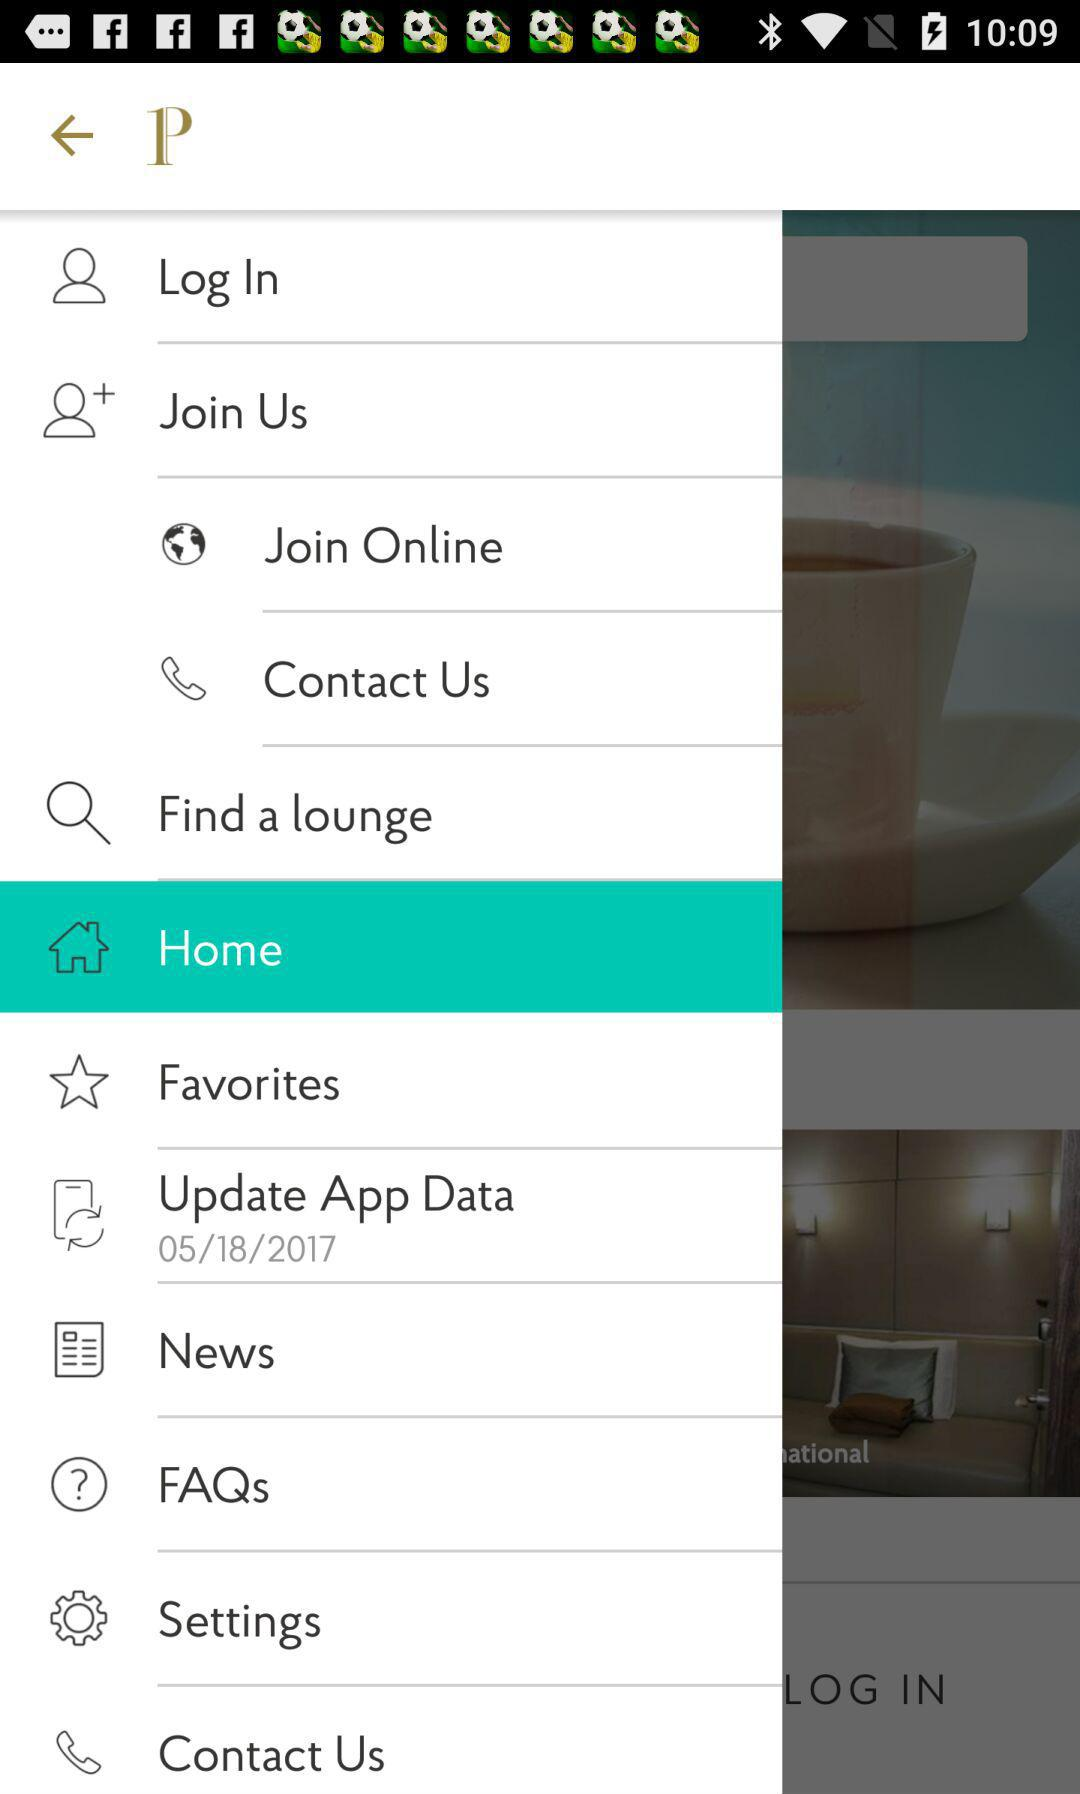Drawer: (1, 210, 783, 1794)
Icon: (46, 780, 113, 847), (44, 382, 117, 440), (47, 1053, 111, 1111), (47, 920, 111, 975), (50, 1589, 110, 1647), (51, 1456, 110, 1513), (53, 247, 109, 305), (54, 1320, 106, 1379), (50, 114, 95, 159)
Image: (53, 1179, 106, 1255), (145, 106, 193, 167), (56, 1729, 104, 1776), (161, 656, 208, 704), (161, 523, 208, 566)
Text: (160, 1171, 516, 1225), (160, 792, 434, 846), (264, 524, 503, 566), (159, 1732, 386, 1773), (264, 660, 491, 700), (159, 1599, 323, 1652), (161, 1064, 341, 1102), (160, 258, 279, 309), (158, 1231, 338, 1265), (160, 392, 309, 431), (160, 929, 284, 969), (160, 1465, 272, 1504), (161, 1331, 275, 1370)
Toolbar: (1, 64, 1080, 210)
UpperTaskBar: (1, 1, 1080, 64)
